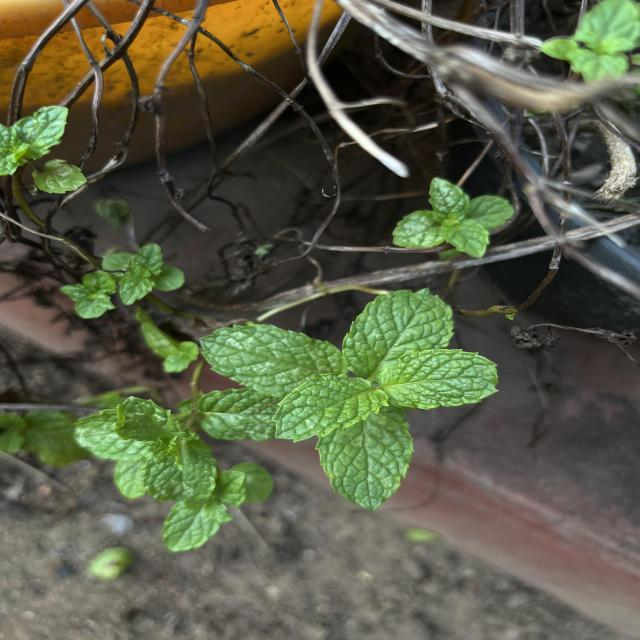Mentha spicata: (198, 322, 342, 398), (316, 404, 414, 514), (341, 286, 457, 378), (270, 372, 390, 444), (378, 348, 500, 410)
